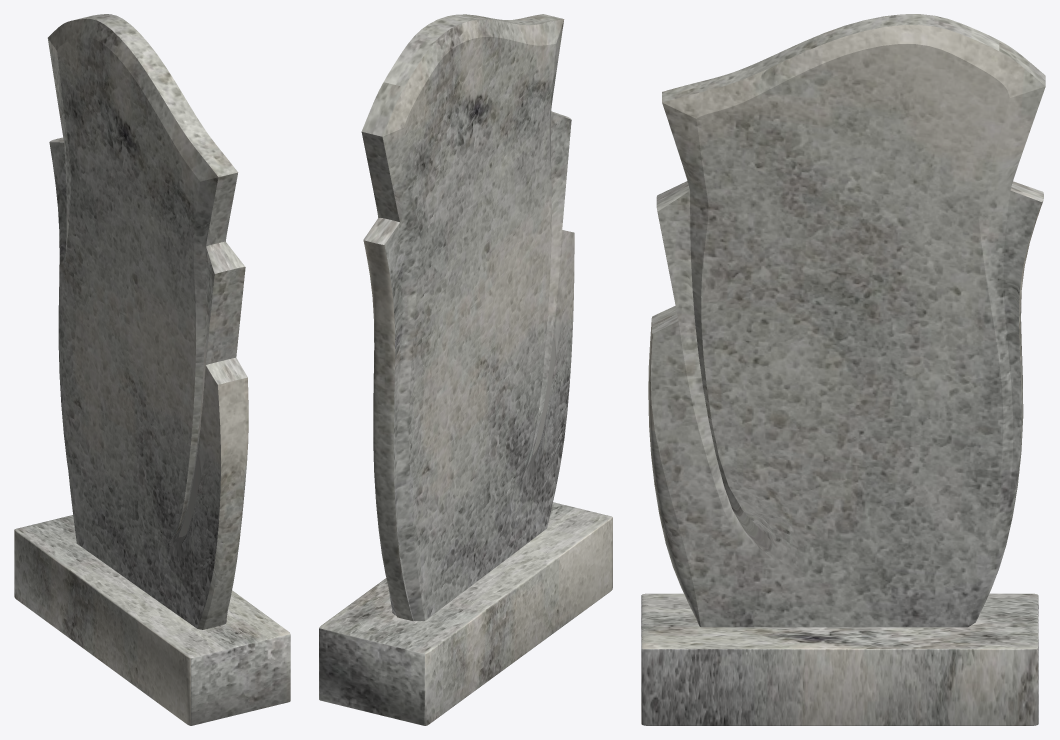
The model's file is Памятник Тюльпан [marble_1_standard] (100).glb.
3 renders of one model, left to right at view 1: azimuth 30°, elevation 25°; view 2: azimuth 150°, elevation 25°; view 3: azimuth 270°, elevation 25°, orthographic. The views are drawn at different scales.
Visible parts, largest first — view 1: Cube.001, Куб.001; view 2: Cube.001, Куб.001; view 3: Cube.001, Куб.001.
Boxes of the visible parts, x1,y1,x2,y2 form: Cube.001: [47, 14, 248, 629]; Куб.001: [14, 515, 290, 725]; Cube.001: [361, 14, 574, 621]; Куб.001: [319, 502, 612, 725]; Cube.001: [648, 14, 1045, 627]; Куб.001: [641, 593, 1038, 725].
Size of the model in its own units: 0.2 by 1.13 by 0.6106.
1 material, 1 textured.
